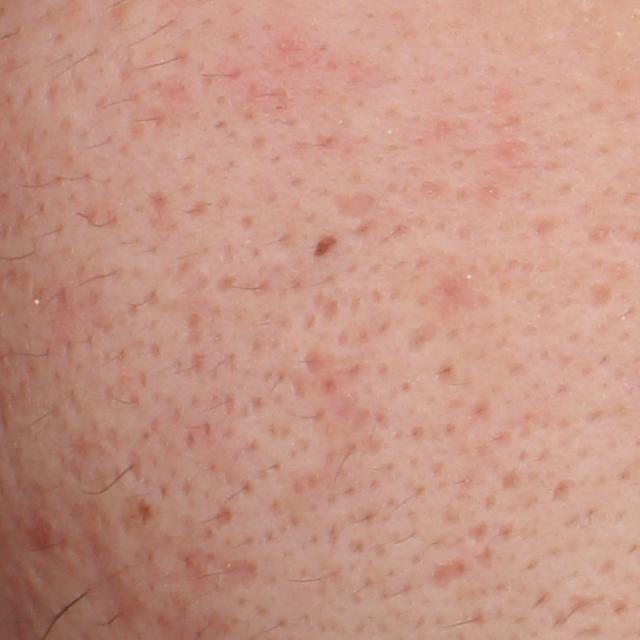atrophic_scar: (308, 350, 372, 435), (210, 557, 262, 595), (405, 316, 444, 356), (430, 557, 471, 592), (331, 191, 378, 221), (579, 275, 613, 312)
nevus: (308, 228, 343, 264)
